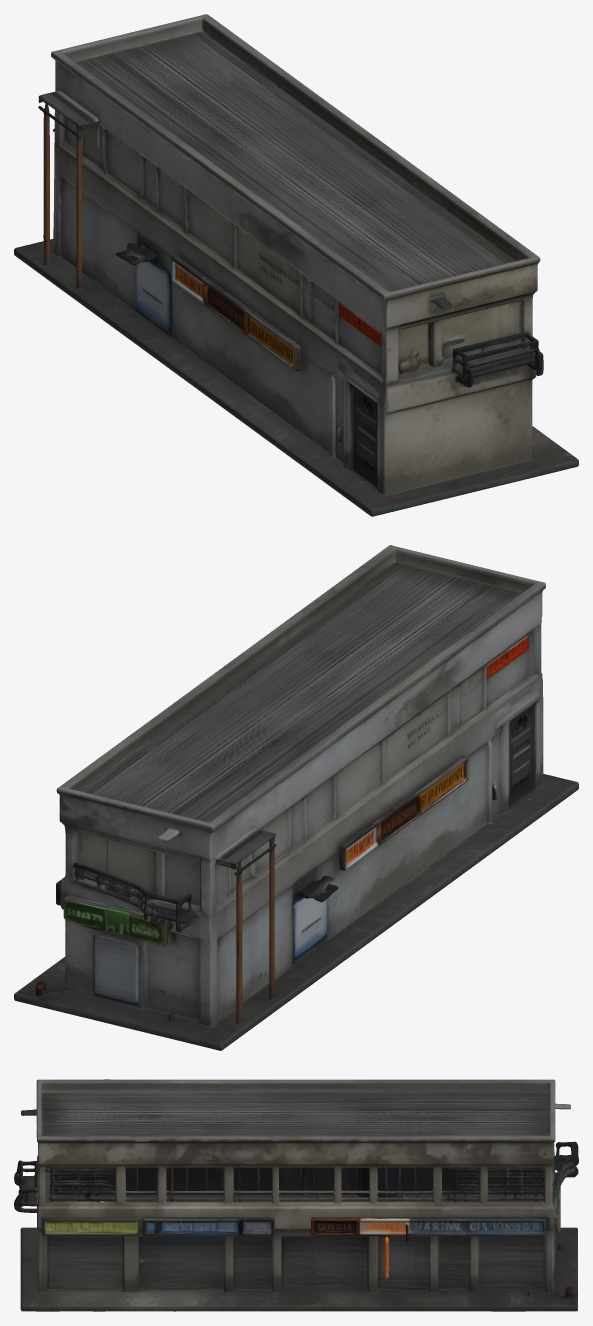
The model's file is plaza.glb.
3 renders of one model, top to bottom at view 1: azimuth 30°, elevation 25°; view 2: azimuth 150°, elevation 25°; view 3: azimuth 270°, elevation 25°, orthographic. The views are drawn at different scales.
Visible parts, largest first — view 1: tripo_node_9d0ca0c7-243c-44c5-95f8-4a38157d2795; view 2: tripo_node_9d0ca0c7-243c-44c5-95f8-4a38157d2795; view 3: tripo_node_9d0ca0c7-243c-44c5-95f8-4a38157d2795.
Boxes of the visible parts, x1,y1,x2,y2 form: tripo_node_9d0ca0c7-243c-44c5-95f8-4a38157d2795: [14, 14, 578, 516]; tripo_node_9d0ca0c7-243c-44c5-95f8-4a38157d2795: [14, 545, 578, 1050]; tripo_node_9d0ca0c7-243c-44c5-95f8-4a38157d2795: [14, 1079, 578, 1311].
Size of the model in its own units: 2.62 by 2.5 by 7.87.
Materials: 1 (1 with a texture image).
